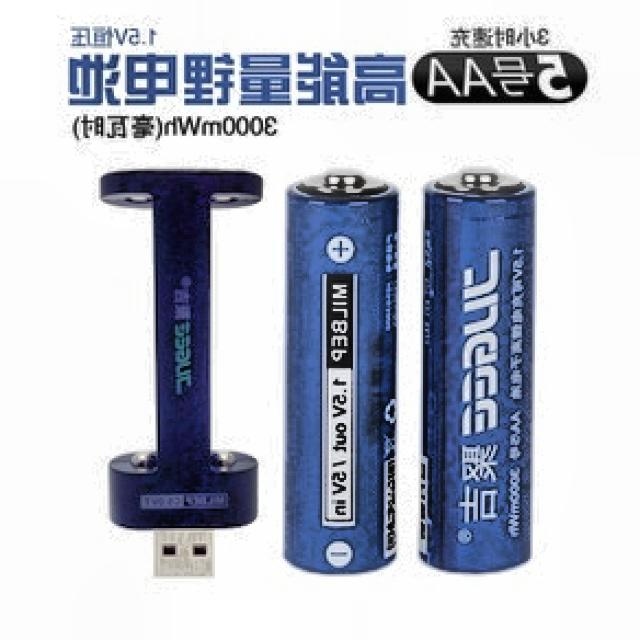Non-Valuable Waste - Batteries: (421, 170, 535, 571), (285, 171, 398, 573)
